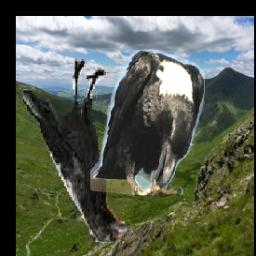Crow: (20, 60, 130, 243), (91, 46, 206, 201)
